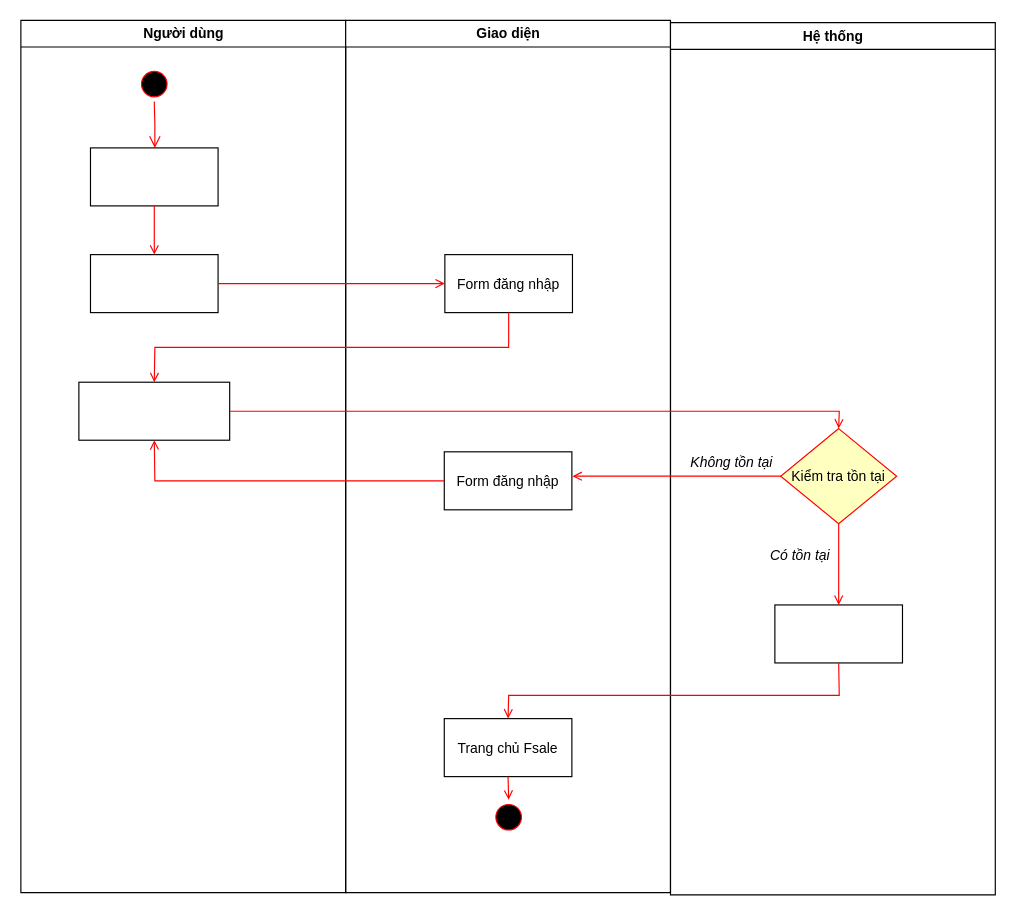
The diagram is 1015 pixels wide and 915 high, and some of its shapes have lost their labels. Here are the shapes that lost their labels. From the top down, the centre of each, then its label:
At point (153, 176): "Truy cập Fsale".
At point (153, 283): "Chọn đăng nhập tài khoản".
At point (154, 410): "Nhập username, password".
At point (838, 633): "Tạo session".
